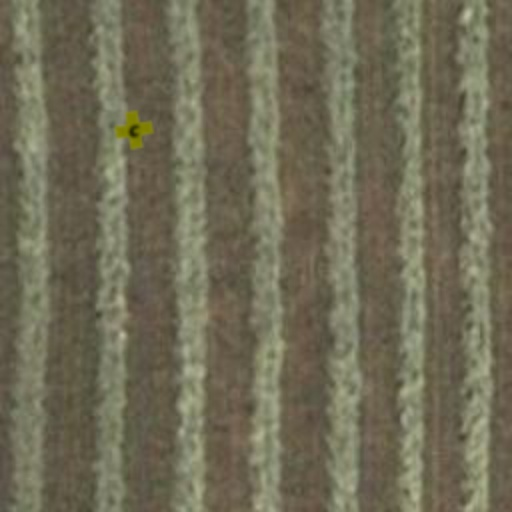cross: (112, 108, 156, 152)
